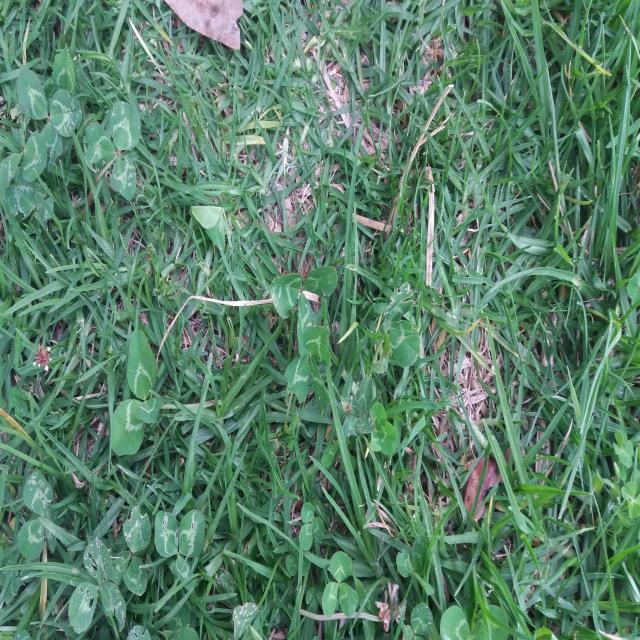Four Leaf Clover: (341, 374, 374, 441)
